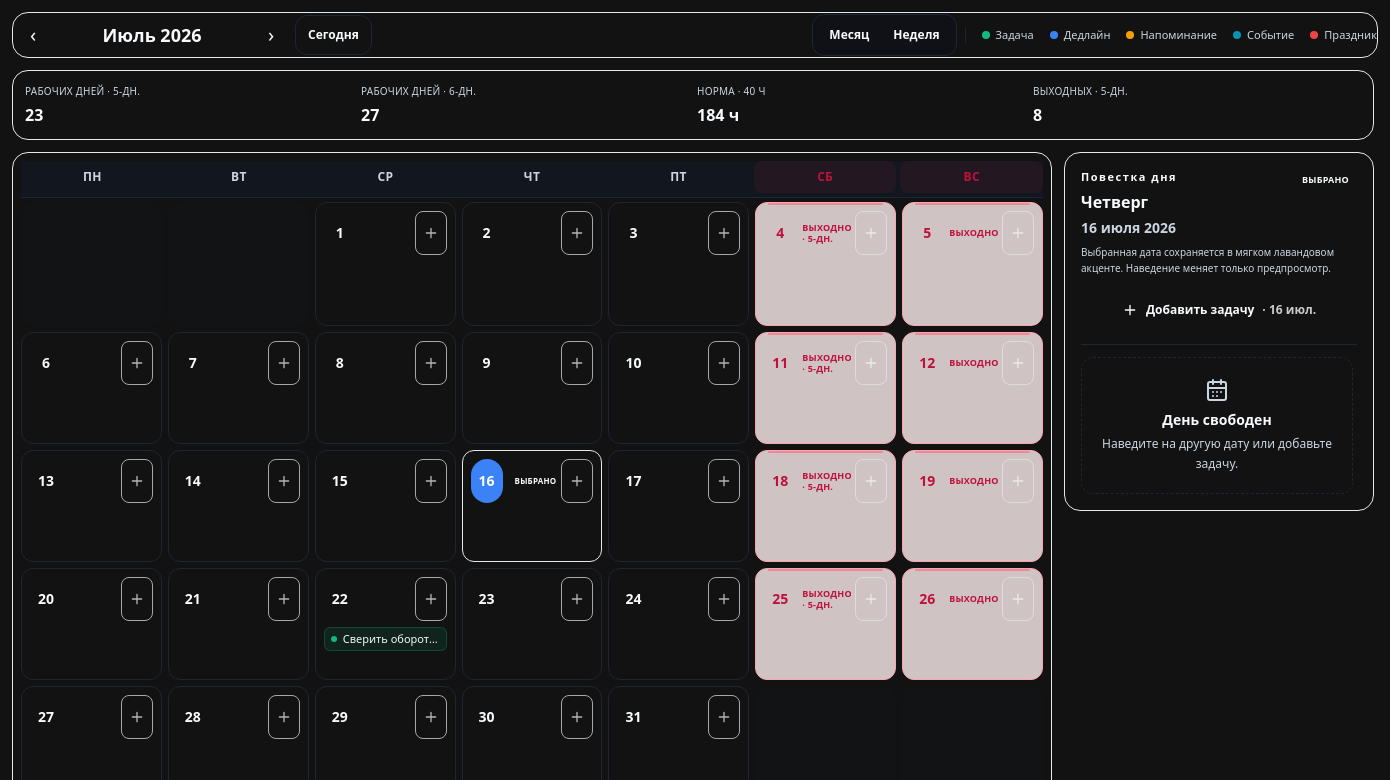
Test case: CalendarView › shows the full day content in a stable preview when the day is hovered
This screenshot has width=1390, height=780.
Hover over the element named "Открыть среда, 22 июля 2026" at (385, 624), box [315,568,456,680]
Wait 180 ms
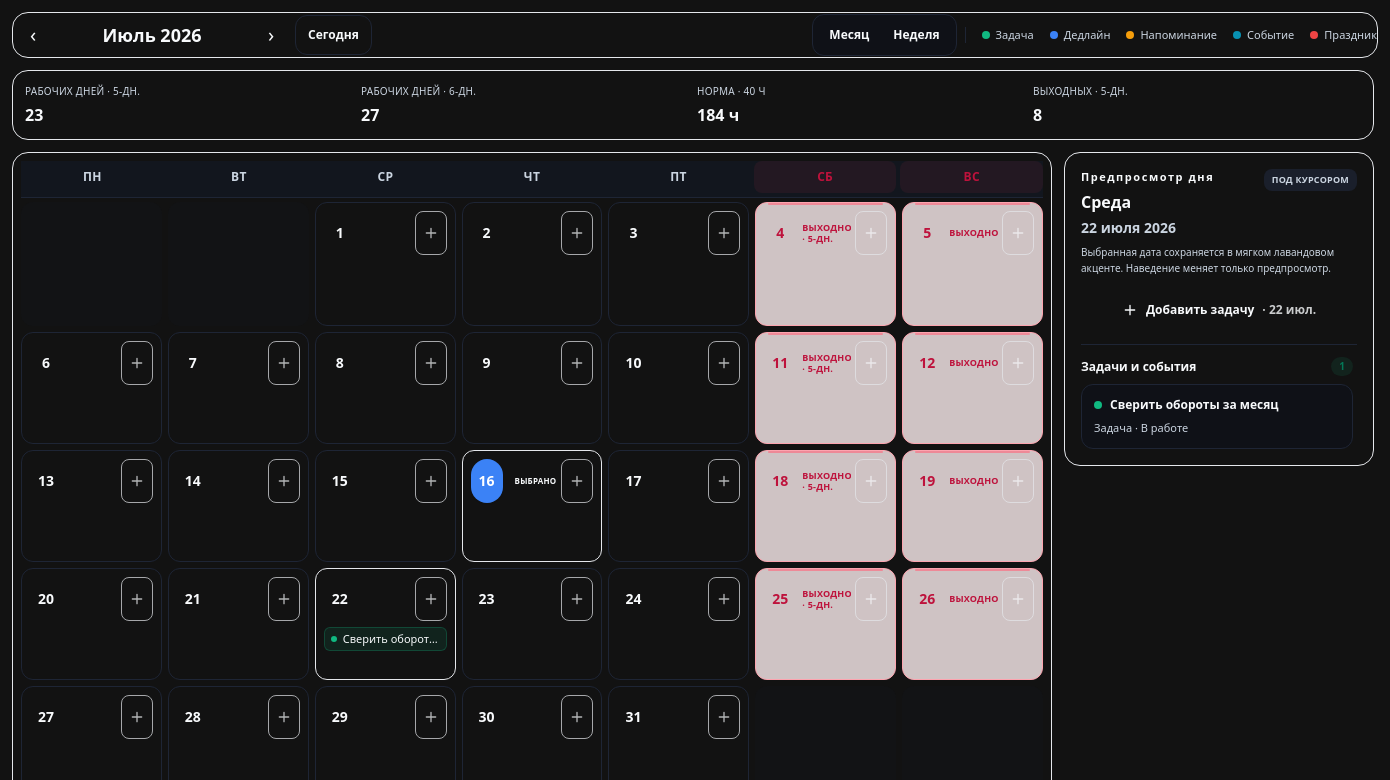
Expected: the text "среда" is shown, [1081,190,1131,212]
Expected: the text "22 июля 2026" is shown, [1081,218,1176,236]
Expected: the text "Сверить обороты за месяц" below "Задачи и события" is shown, [1110,396,1279,413]
